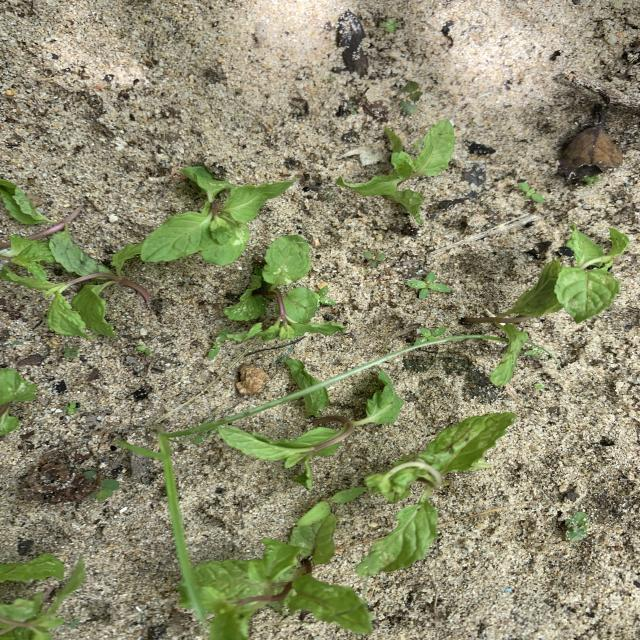crop: (356, 413, 516, 577), (462, 229, 629, 385), (184, 502, 370, 639), (0, 183, 151, 338), (219, 384, 401, 486), (140, 166, 295, 264), (220, 236, 343, 340), (340, 120, 455, 223), (0, 555, 83, 639), (0, 368, 35, 434)
weed: (120, 342, 437, 619), (296, 487, 367, 527), (407, 272, 450, 299), (84, 466, 119, 499), (398, 81, 420, 114), (564, 511, 588, 541), (414, 327, 447, 345), (520, 183, 543, 203), (364, 249, 385, 267), (382, 18, 399, 32), (62, 345, 79, 359), (525, 345, 541, 358), (63, 403, 80, 415), (134, 345, 152, 356)
